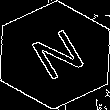N_SE: (22, 23, 88, 87)
